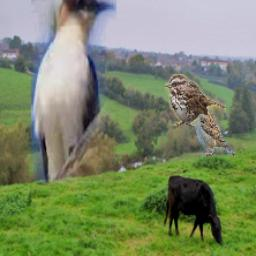Cuckoo: (31, 0, 116, 184)
Sparrow: (166, 74, 227, 126), (191, 97, 236, 156)
